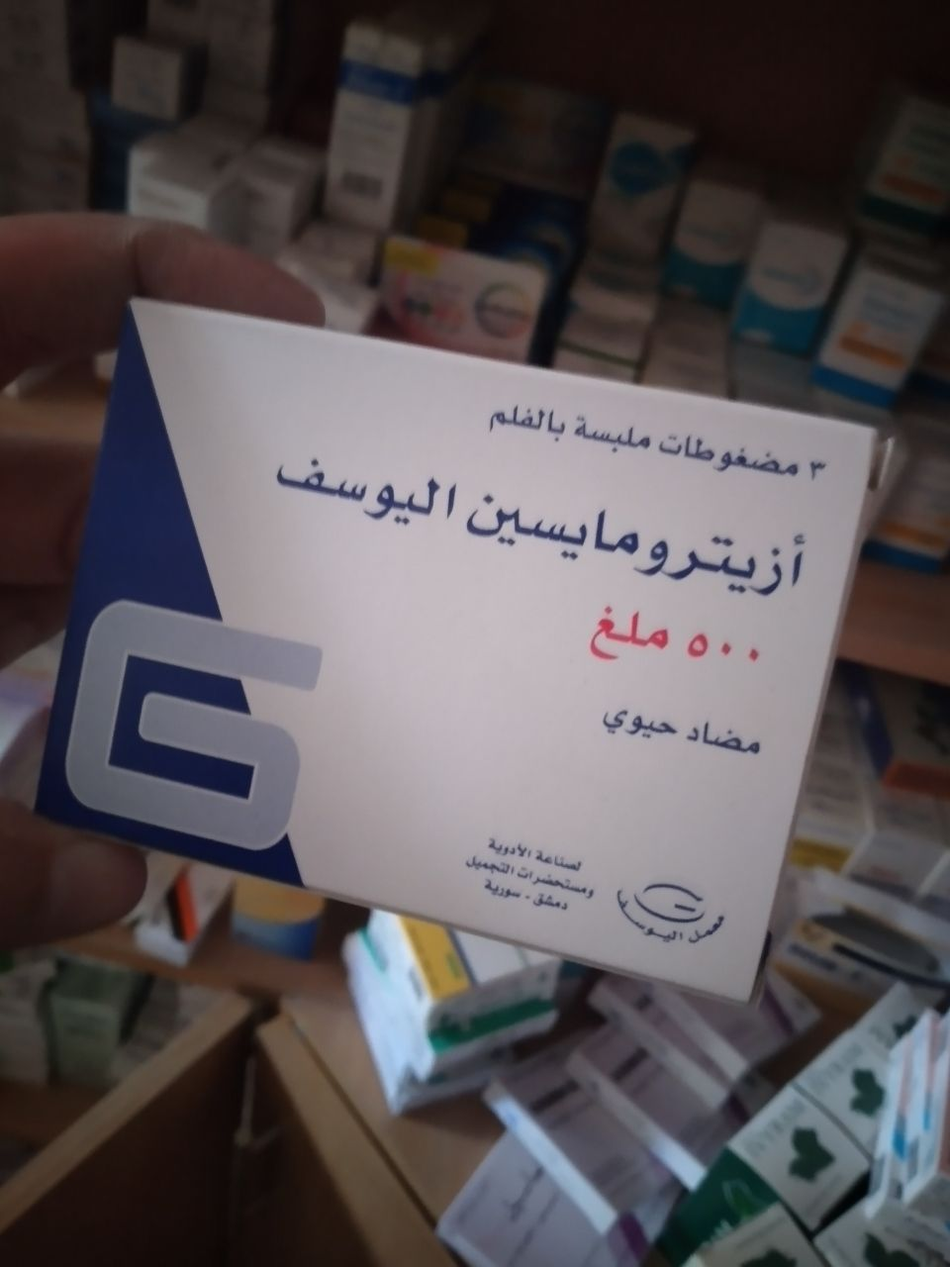Medicine: (33, 284, 904, 1013)
